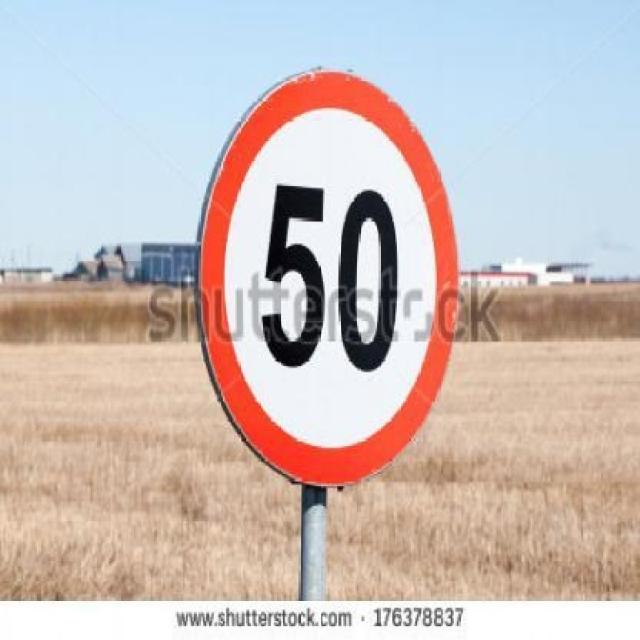forb_speed_over_50: (215, 73, 456, 482)
